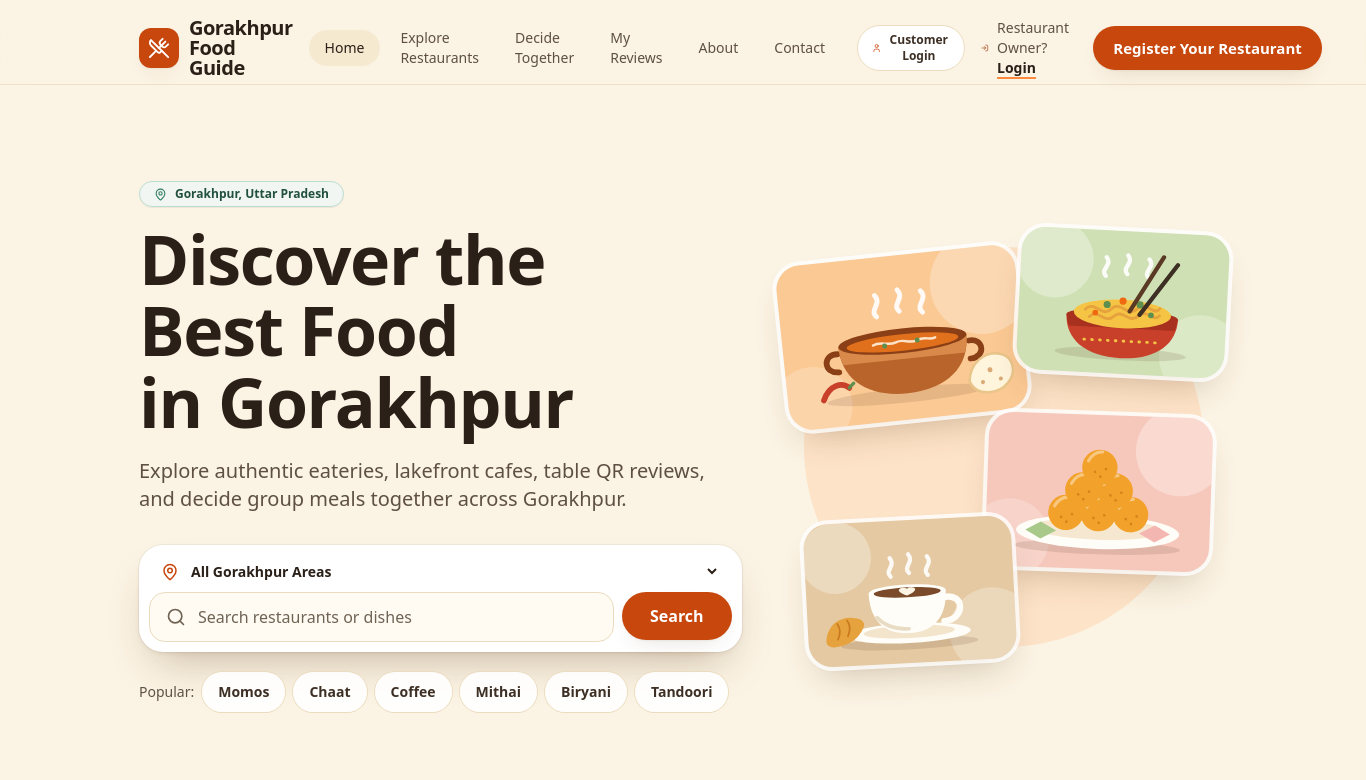
Test: App routing › opens the owner login placeholder
Click the link "Restaurant Owner? Login": [1029, 48] box [981,18,1077,78]
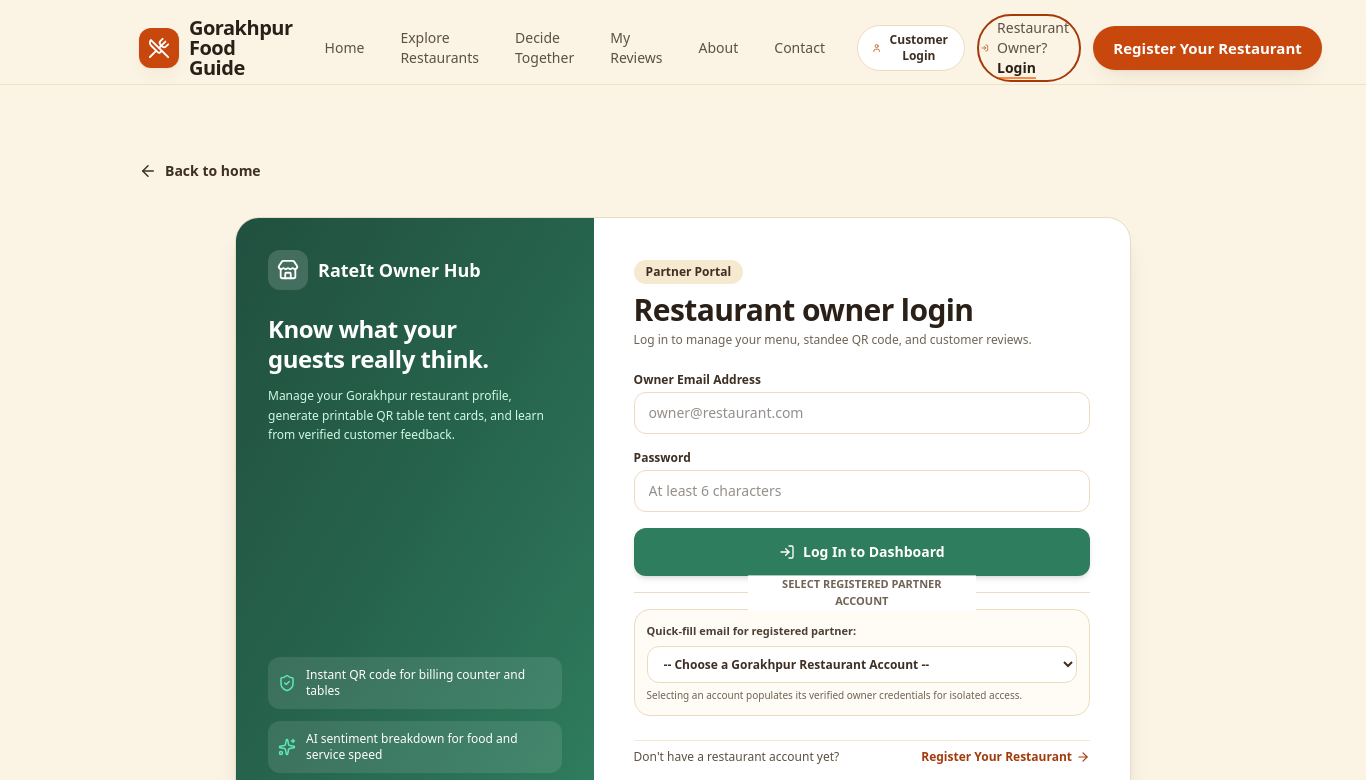
Check: the heading "Restaurant owner login" is shown, box [634,289,973,330]
